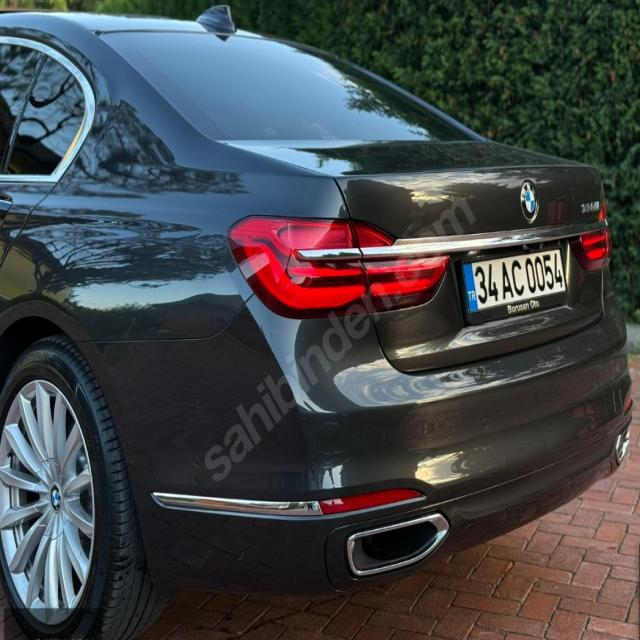bmw: (516, 176, 544, 225)
